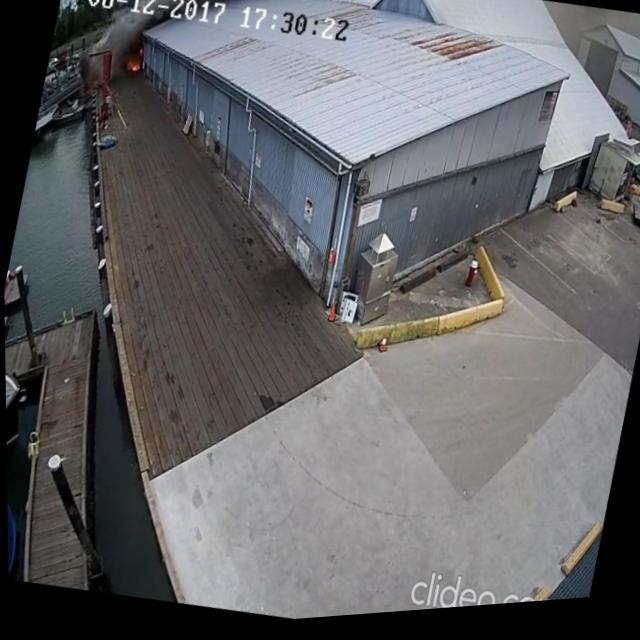fire: (123, 57, 144, 78)
